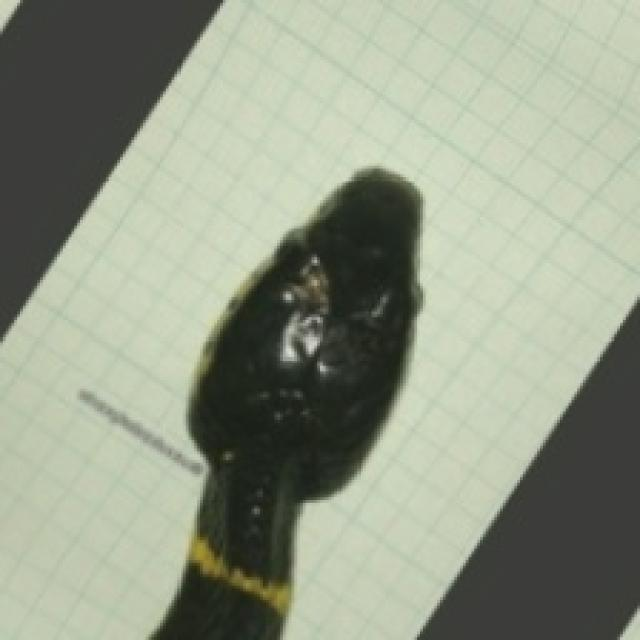mangrove cat snake: (151, 169, 420, 637)
